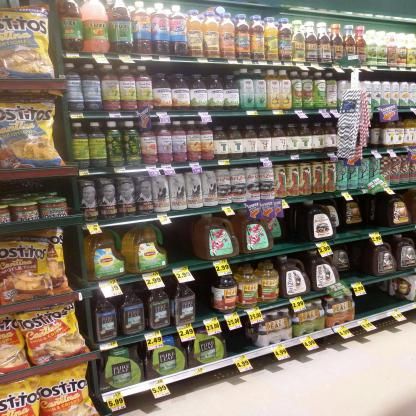Void: (165, 227, 200, 261), (353, 288, 392, 309), (283, 210, 306, 241), (227, 329, 251, 353), (355, 247, 373, 278), (198, 282, 213, 314)
